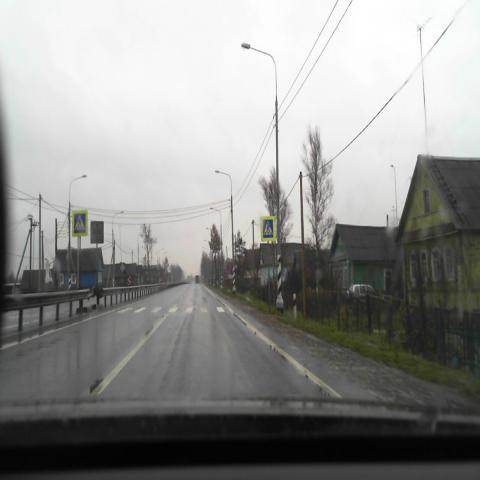5_19_1: (72, 210, 88, 237), (260, 216, 276, 240)
